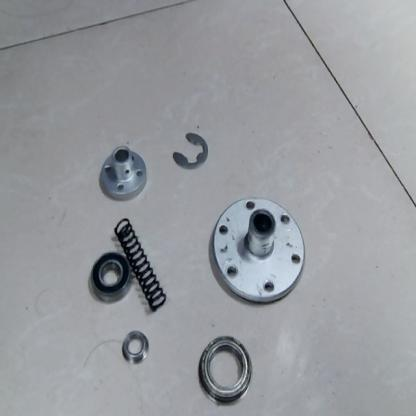FOD: (206, 194, 308, 307), (113, 214, 168, 317), (197, 332, 253, 405), (98, 144, 150, 202), (88, 250, 134, 302), (168, 127, 210, 172), (121, 328, 149, 366)
